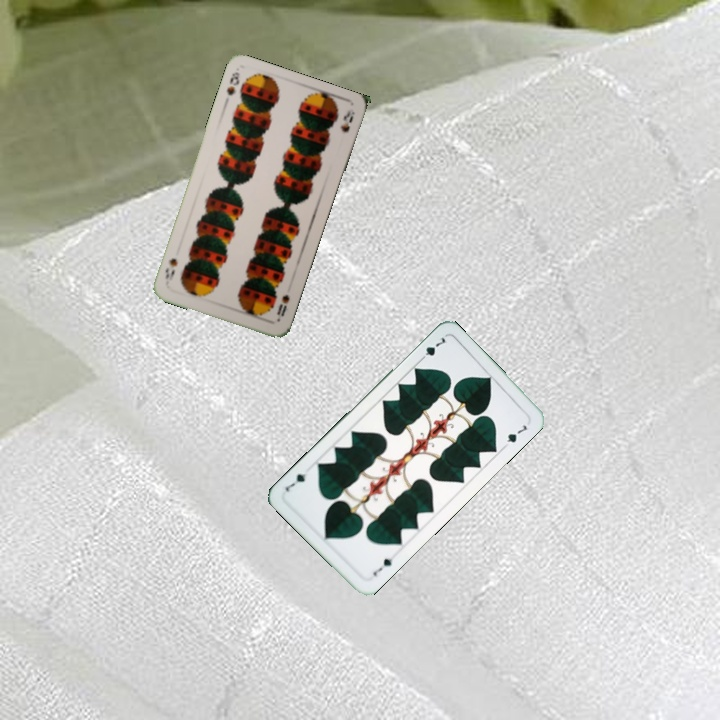G7: (415, 333, 450, 364), (369, 552, 398, 579)
S8: (221, 68, 242, 107), (273, 290, 292, 319)
